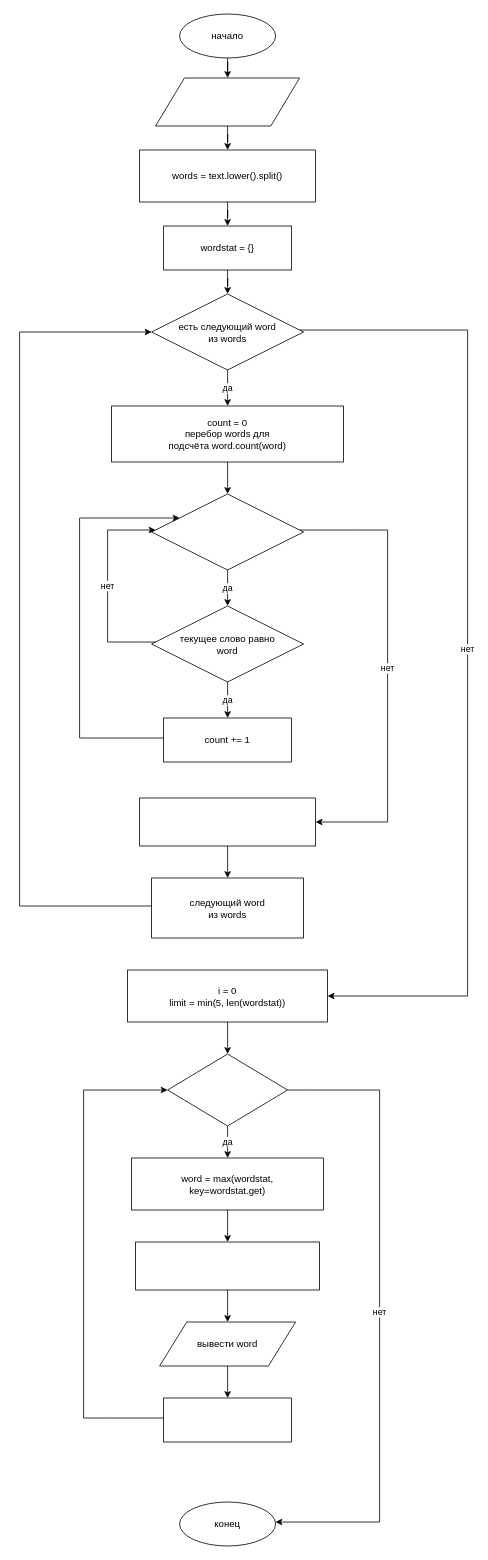
Some shapes in this 488 by 1560 pixel diagram are drawn without their labels. Each missing label, with the box of its shape:
i += 1: (163, 1397, 292, 1442)
i < limit: (167, 1053, 288, 1126)
wordstat[word] = count: (139, 797, 316, 846)
ввод текста: (155, 77, 300, 126)
есть следующее слово для подсчёта: (151, 493, 304, 570)
удалить word из wordstat: (135, 1241, 320, 1290)
